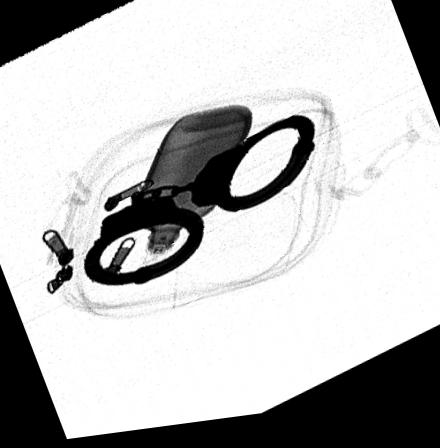HandCuffs: (84, 122, 317, 288)
